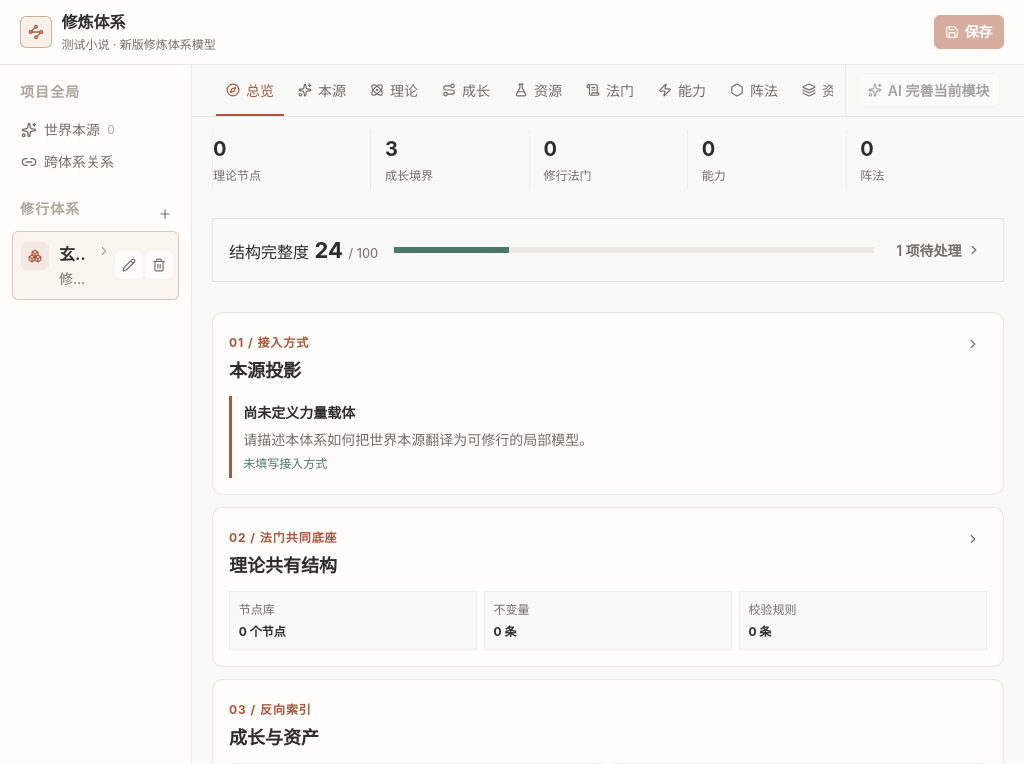
Test case: CultivationEcologyWorkbench 境界检查器 › 能力页将获取方式与功能类型筛选分组展示
Click the button "成长" at point(466, 90), box [432,65,500,116]
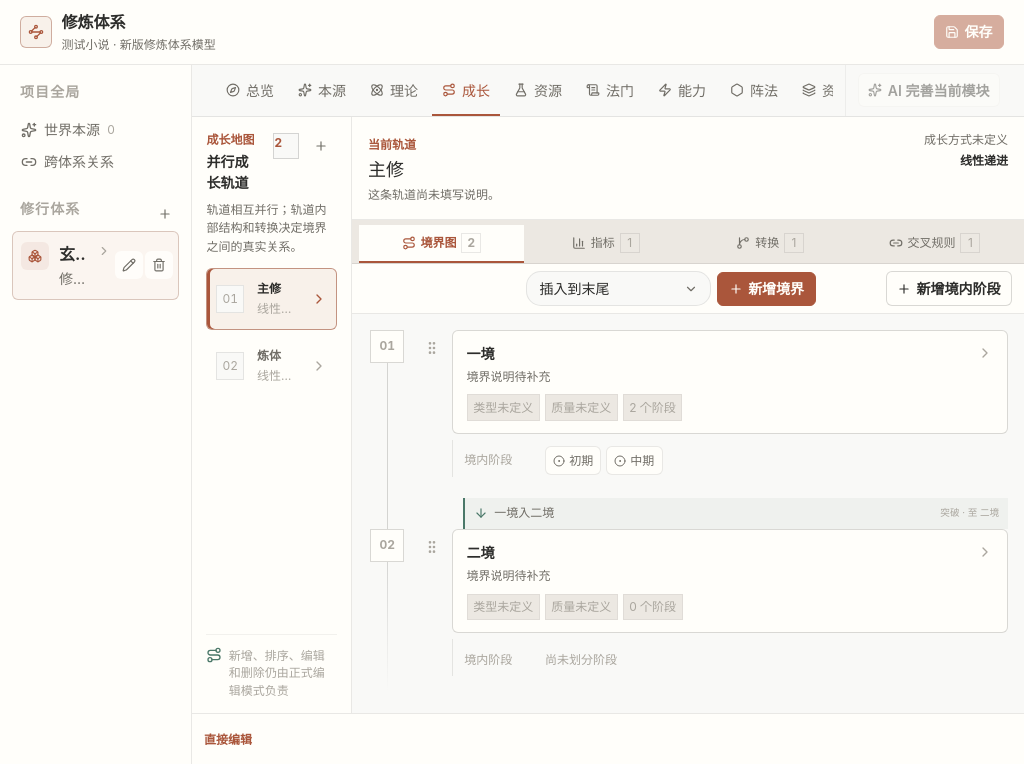
Click the button "能力" at point(682, 90), box [648,65,716,116]
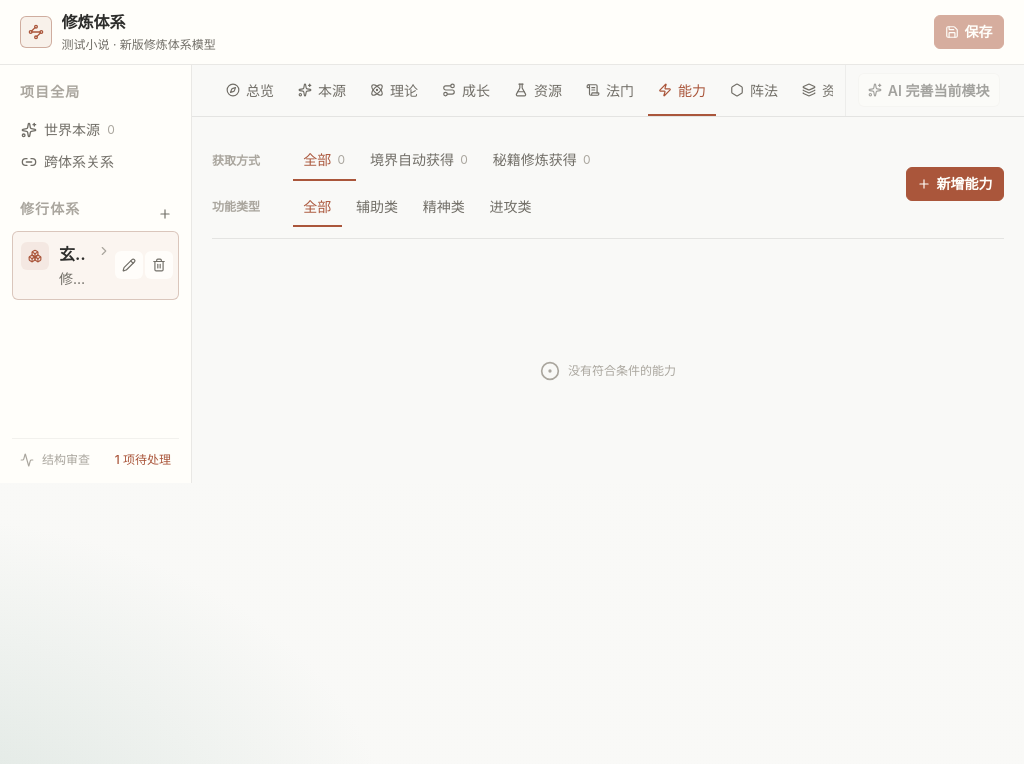
Check: the element "获取方式" is shown, box [212,141,601,181]
Check: the element "功能类型" is shown, box [212,187,542,227]
Check: the button "全部 0" is shown, box [293,141,356,181]
